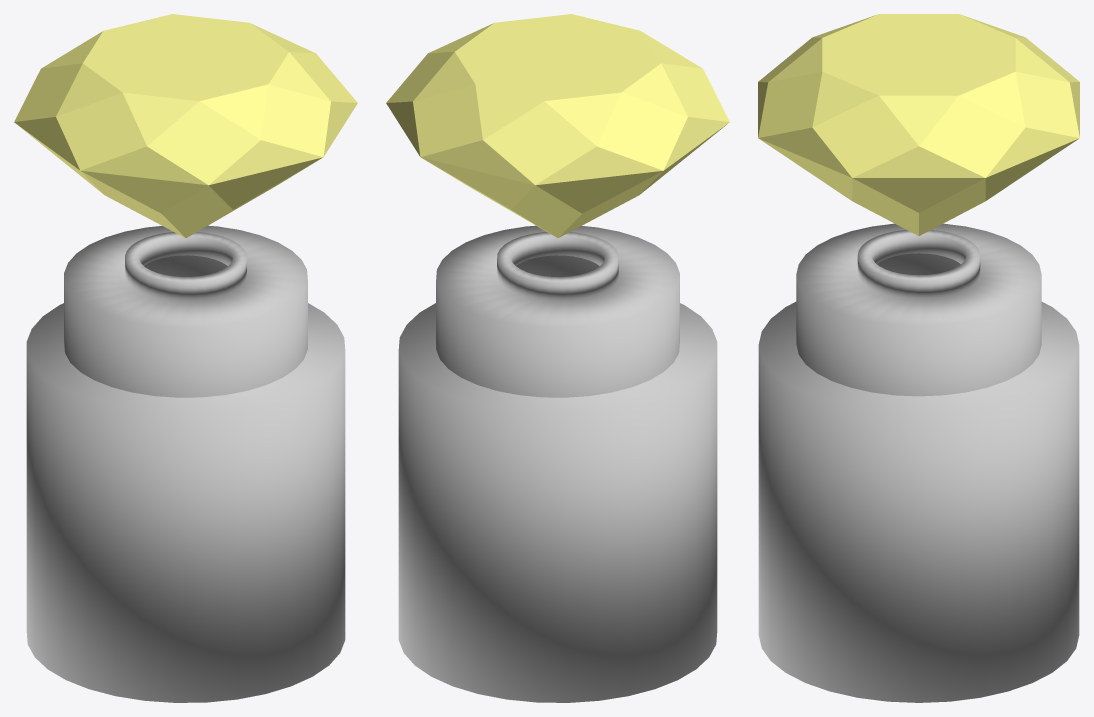
The model's file is LightPillar.fbx.
3 renders of one model, left to right at view 1: azimuth 30°, elevation 25°; view 2: azimuth 150°, elevation 25°; view 3: azimuth 270°, elevation 25°, orthographic.
Visible parts, largest first — view 1: Cylinder.001, Gem, Cylinder; view 2: Cylinder.001, Gem, Cylinder; view 3: Cylinder.001, Gem, Cylinder.
Boxes of the visible parts, x1,y1,x2,y2 form: Cylinder.001: (26, 303, 345, 702); Gem: (14, 14, 357, 237); Cylinder: (64, 225, 307, 397); Cylinder.001: (398, 303, 717, 702); Gem: (386, 14, 729, 237); Cylinder: (436, 225, 679, 397); Cylinder.001: (758, 302, 1079, 702); Gem: (758, 14, 1079, 235); Cylinder: (796, 223, 1041, 396).
Size of the model in its own units: 92.39 by 184 by 92.39.
